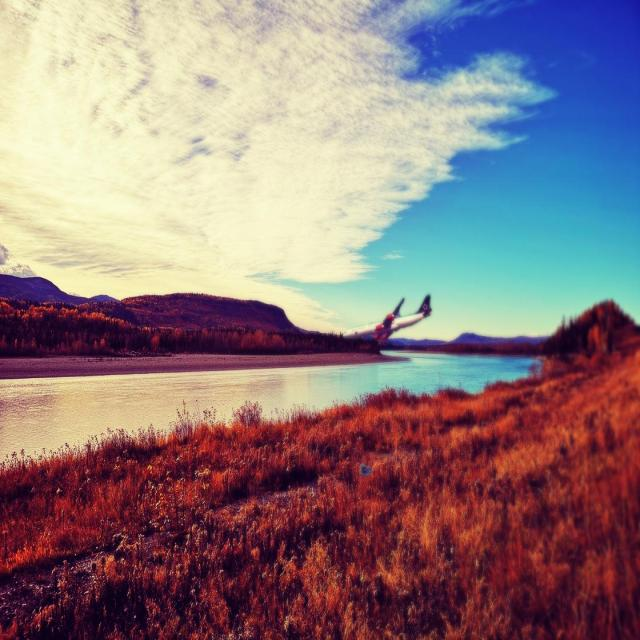airplane: (342, 294, 432, 344)
